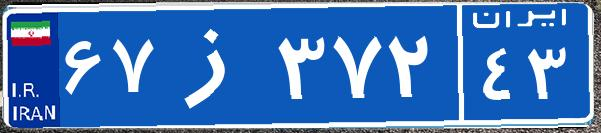2: (385, 28, 445, 110)
3: (273, 28, 330, 110), (525, 38, 570, 115)
4: (475, 38, 525, 113)
6: (57, 26, 110, 107)
7: (330, 28, 385, 110), (110, 28, 158, 105)
ز: (158, 15, 273, 115)
